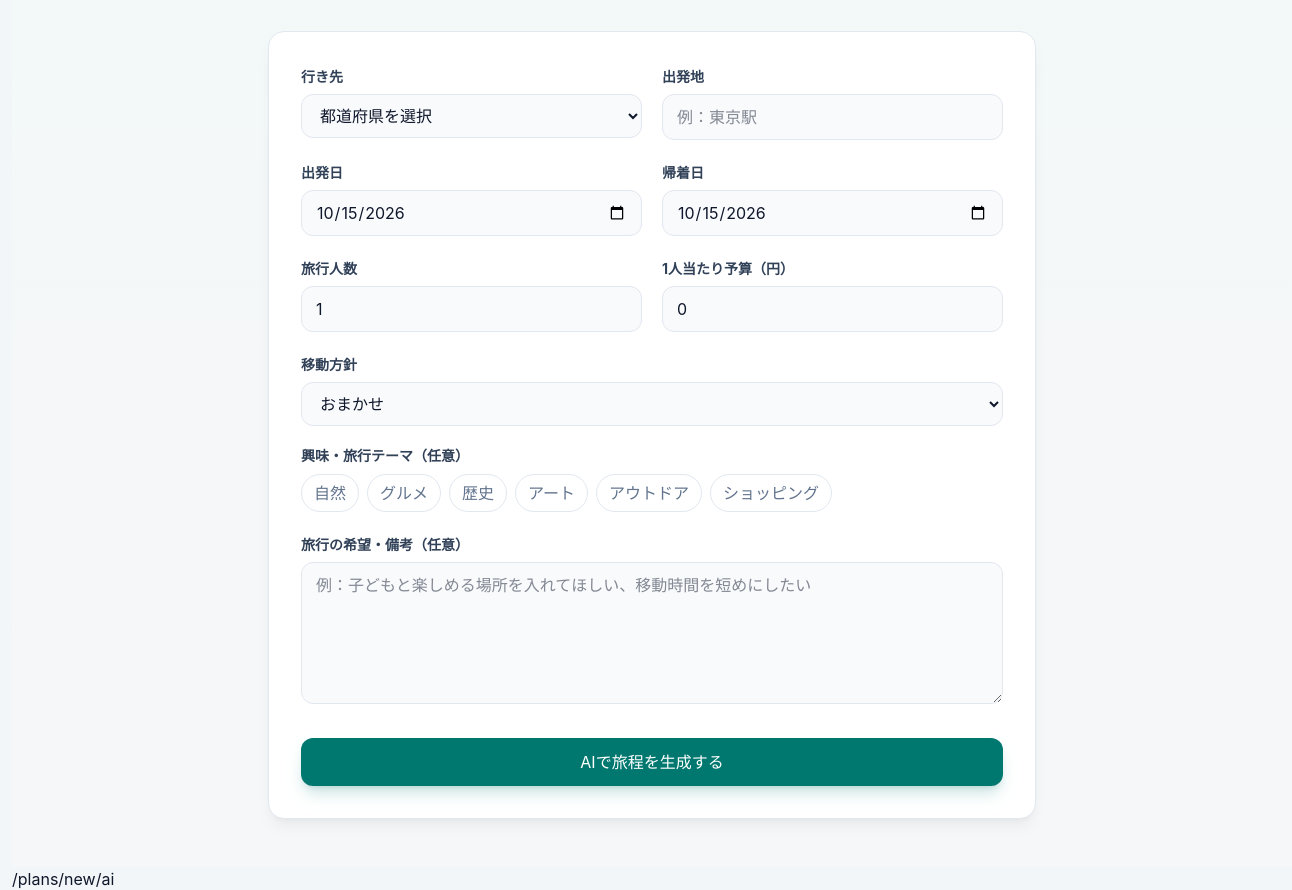
AI旅程作成フロー › 必須エラーでは生成APIを呼ばない
The width and height of the screenshot is (1292, 890).
(page scrolled)
Click the button "AIで旅程を生成する" at (652, 762), box [301,738,1003,786]
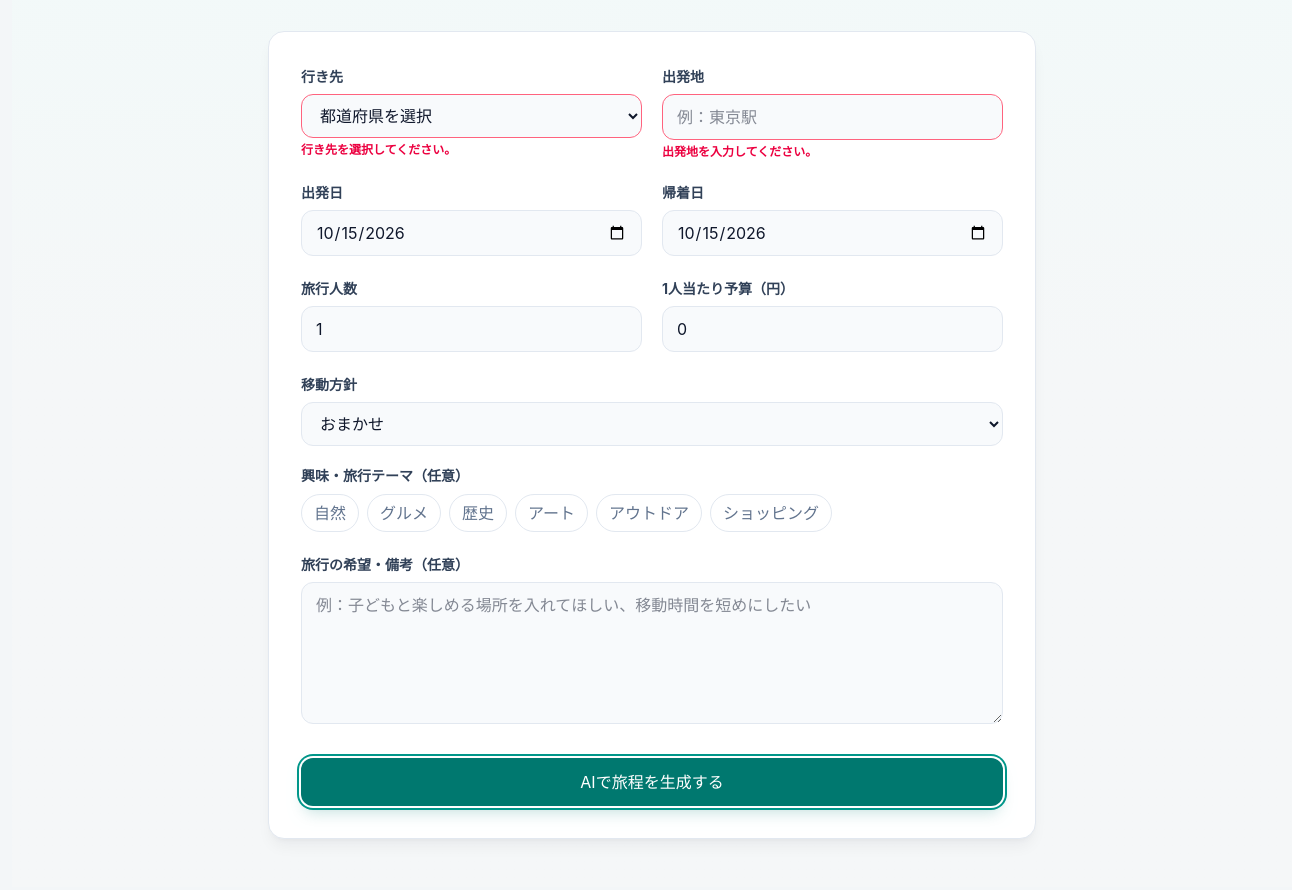
Now the text "行き先を選択してください。" is shown, box [301,142,456,157]
Now the text "出発地を入力してください。" is shown, box [662,144,817,159]
